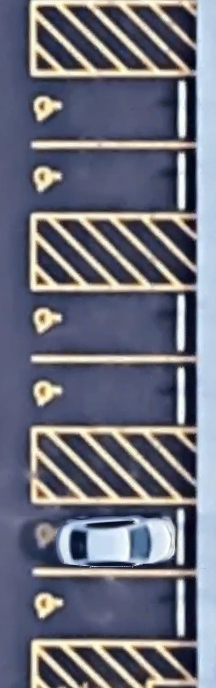Occupied: (32, 500, 193, 572)
Vacant: (31, 73, 194, 146), (32, 572, 194, 644), (31, 288, 195, 359), (31, 146, 194, 216), (31, 359, 194, 429)
